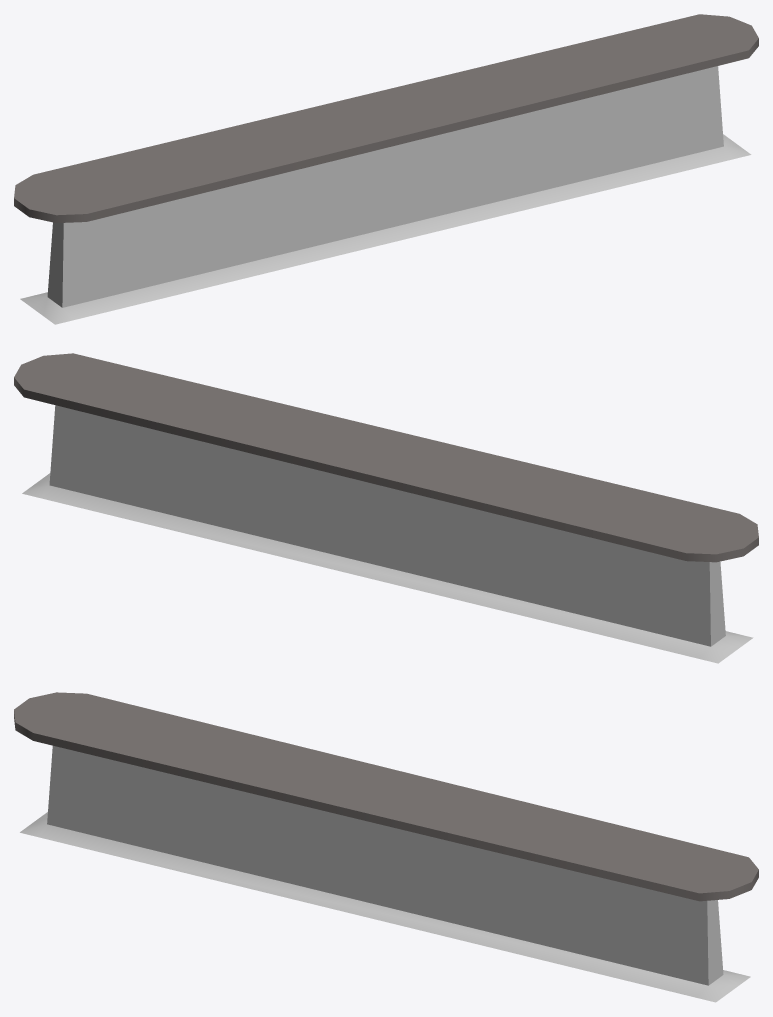
The model's file is SM_Chairs_05.FBX.
3 views of the same model, one above another, from view 1: azimuth 30°, elevation 25°; view 2: azimuth 150°, elevation 25°; view 3: azimuth 330°, elevation 25° (orthographic).
Parts seen in each view (by area): view 1: SM_Chairs_05; view 2: SM_Chairs_05; view 3: SM_Chairs_05.
Boxes of the visible parts, x1,y1,x2,y2 form: SM_Chairs_05: (14,14,758,324); SM_Chairs_05: (14,353,758,663); SM_Chairs_05: (14,692,758,1002).
Size of the model in its own units: 329 by 41.91 by 48.13.
